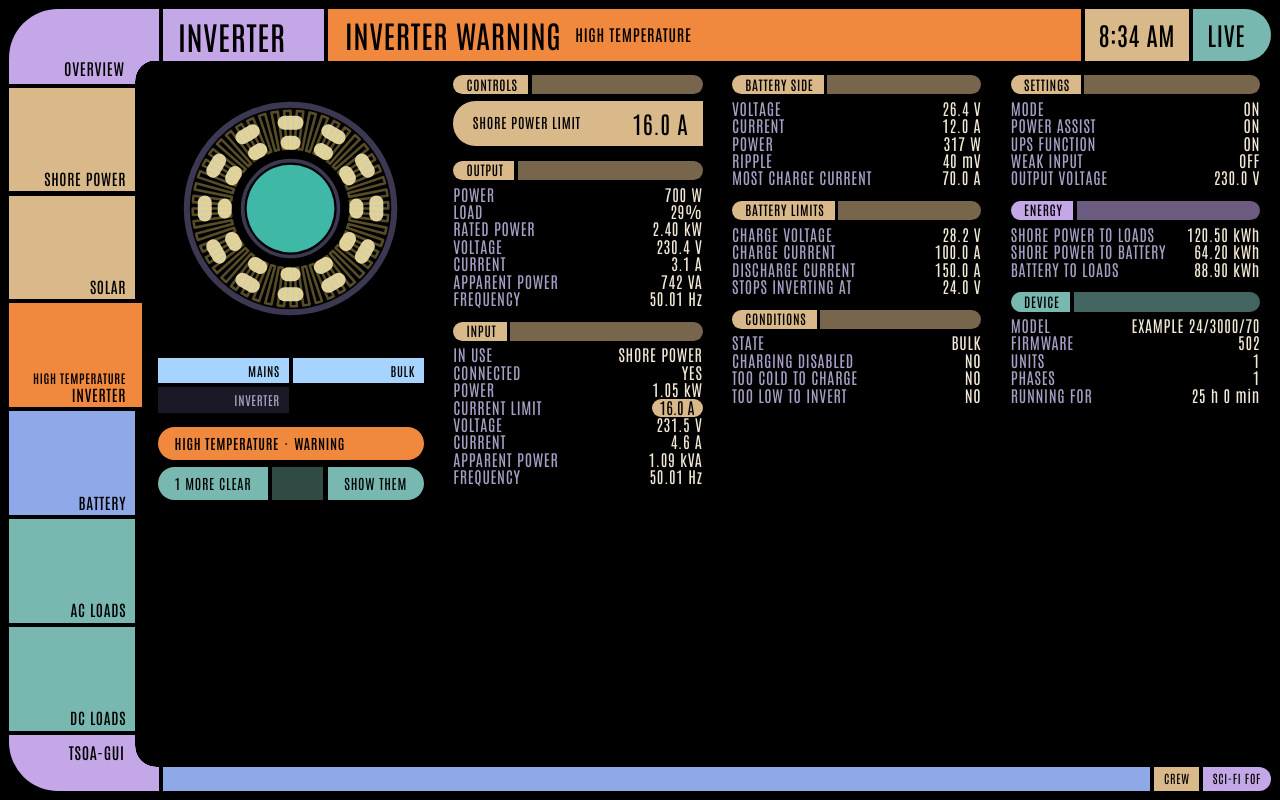
Scenario: the input limit screen in Sci-Fi FOF › takes over the frame, and hands it back from Cancel or Escape
Click the button "Shore power limit 16.0 A" at (578, 123), box top-left (453, 101), bottom-right (703, 146)
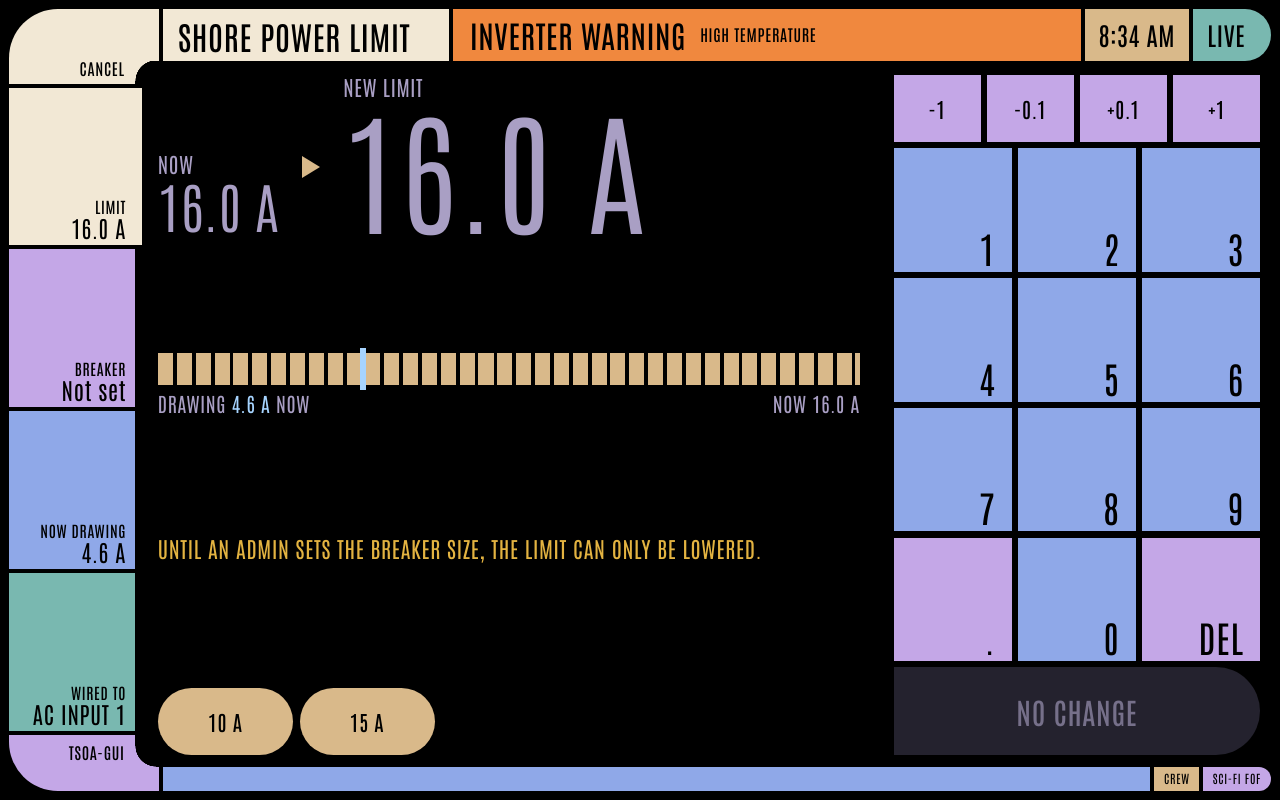
Expected: the navigation bar "Parts" is gone
Expected: the navigation bar named "Shore power limit" is shown, top-left (9, 88), bottom-right (135, 731)
Click the button "Cancel" at (72, 46), box top-left (9, 9), bottom-right (135, 84)
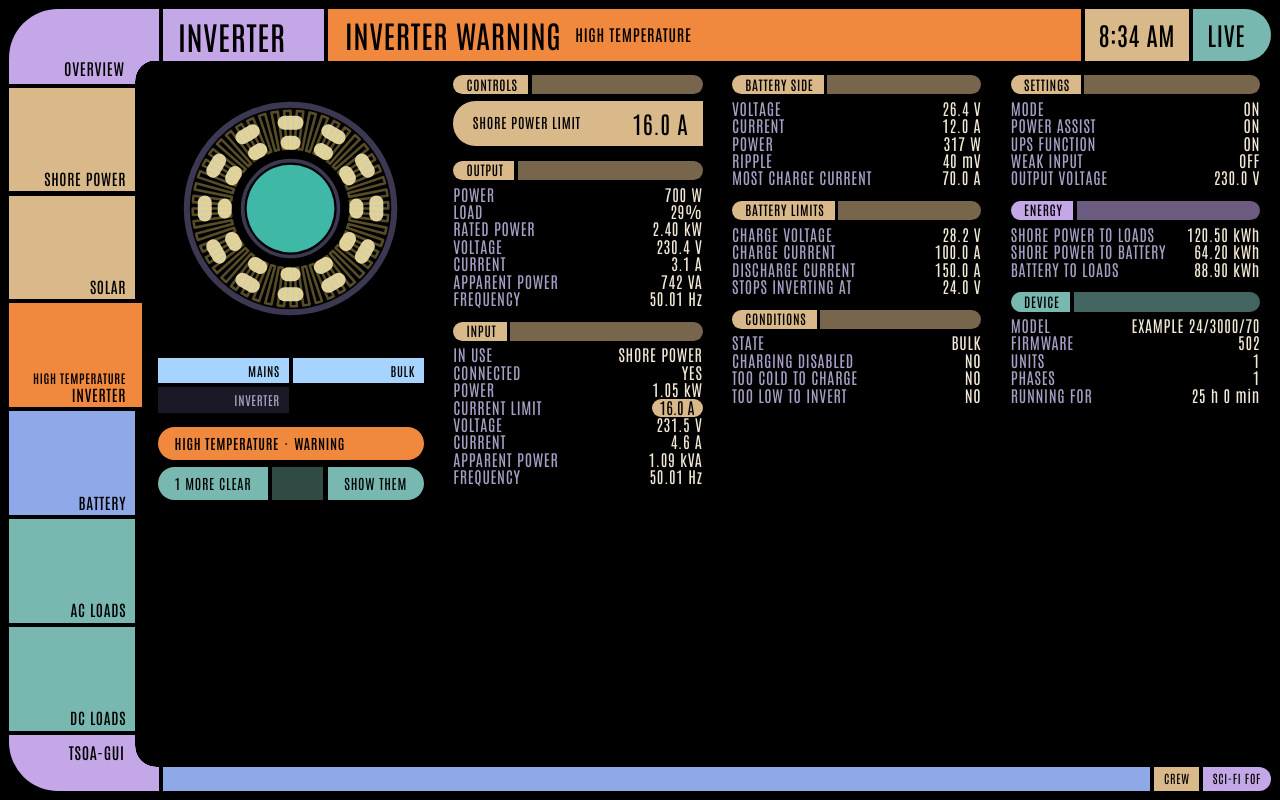
Expected: the navigation bar named "Parts" is shown, top-left (9, 88), bottom-right (135, 731)
Click the button "Shore power limit 16.0 A" at (578, 123), box top-left (453, 101), bottom-right (703, 146)
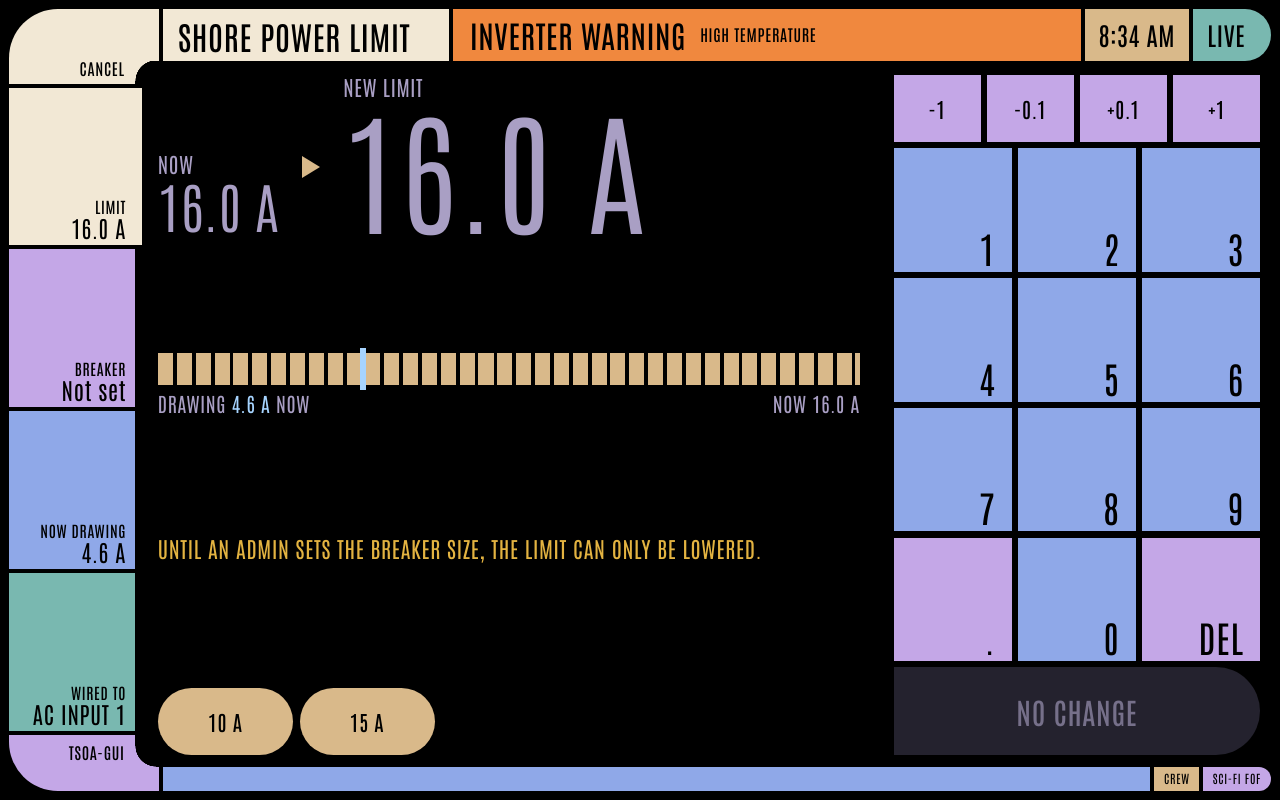
Press Escape in the element with class "fof-limit"
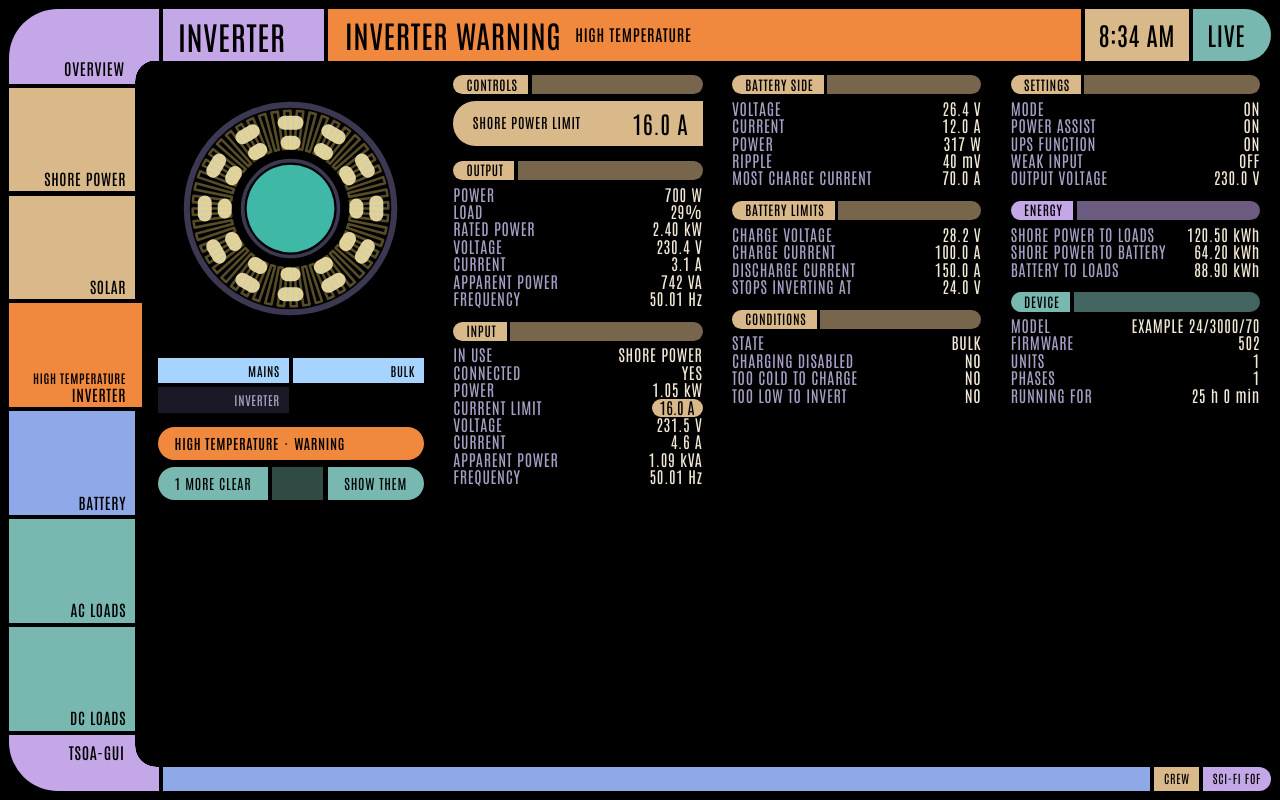
Expected: the navigation bar named "Parts" is shown, top-left (9, 88), bottom-right (135, 731)
